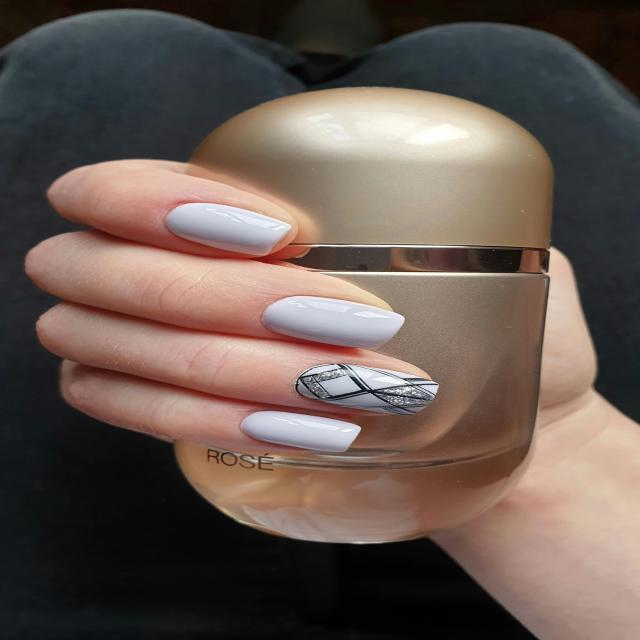Fingernail: (294, 364, 440, 416), (262, 296, 404, 348), (164, 202, 290, 256), (241, 410, 361, 453)
